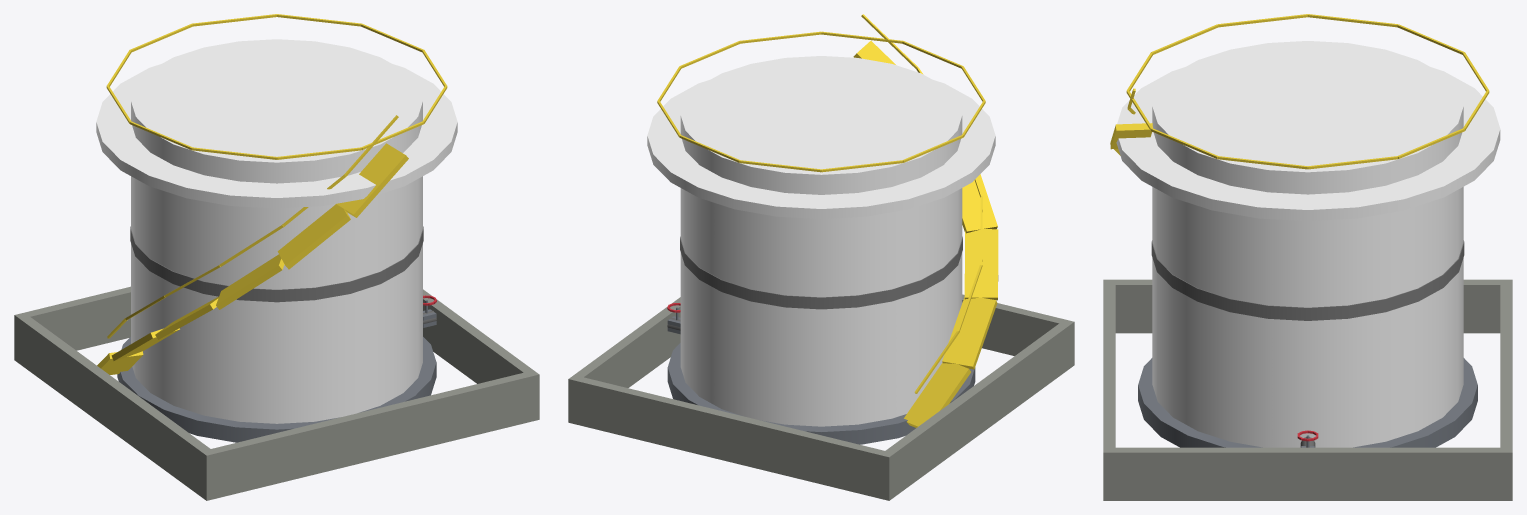
The model's file is port_cargo1.fbx.
3 views of the same model, side by side, from view 1: azimuth 30°, elevation 25°; view 2: azimuth 150°, elevation 25°; view 3: azimuth 270°, elevation 25° (orthographic). The views are drawn at different scales.
Parts seen in each view (by area): view 1: a402_0_port_cargo1; view 2: a402_0_port_cargo1; view 3: a402_0_port_cargo1.
Part boxes in pixels (<box>): a402_0_port_cargo1: <box>14,14,539,500</box>; a402_0_port_cargo1: <box>568,14,1074,500</box>; a402_0_port_cargo1: <box>1103,14,1512,500</box>.
Size of the model in its own units: 10 by 9.32 by 10.
